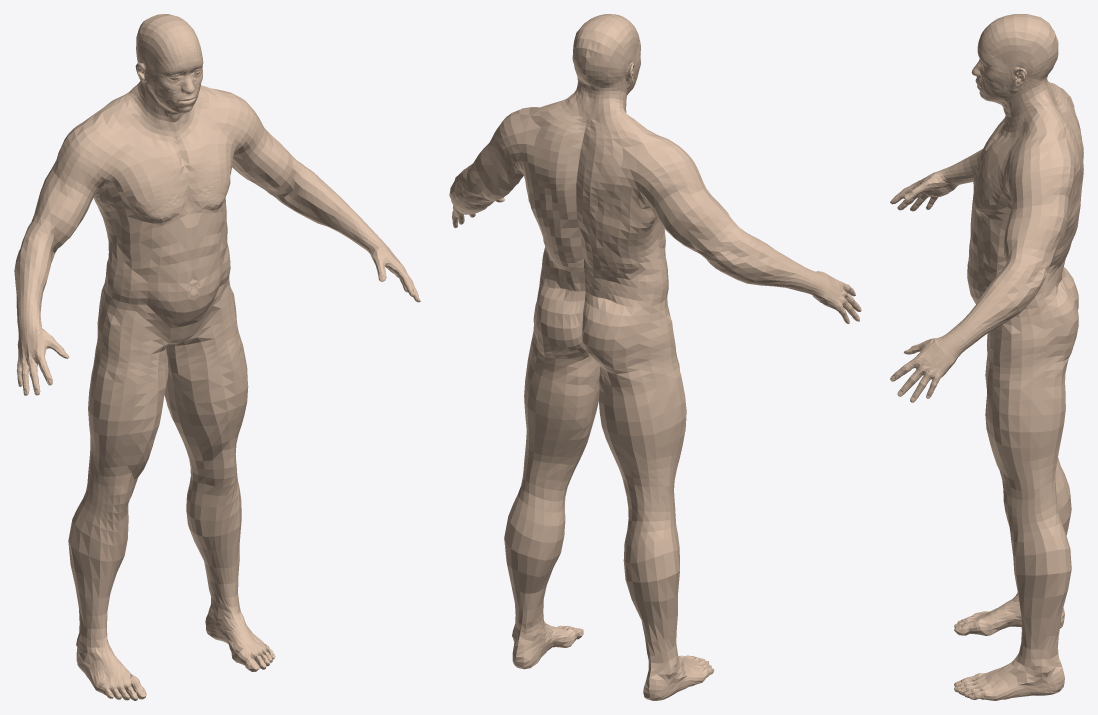
File: male-mature-max-high.glb
3 renders of one model, left to right at view 1: azimuth 30°, elevation 25°; view 2: azimuth 150°, elevation 25°; view 3: azimuth 270°, elevation 25°, orthographic.
Parts seen in each view (by area): view 1: world; view 2: world; view 3: world.
Boxes of the visible parts, x1,y1,x2,y2 form: world: (14, 14, 420, 700); world: (449, 14, 861, 700); world: (890, 14, 1083, 700).
Size of the model in its own units: 1.27 by 1.99 by 0.5411.
